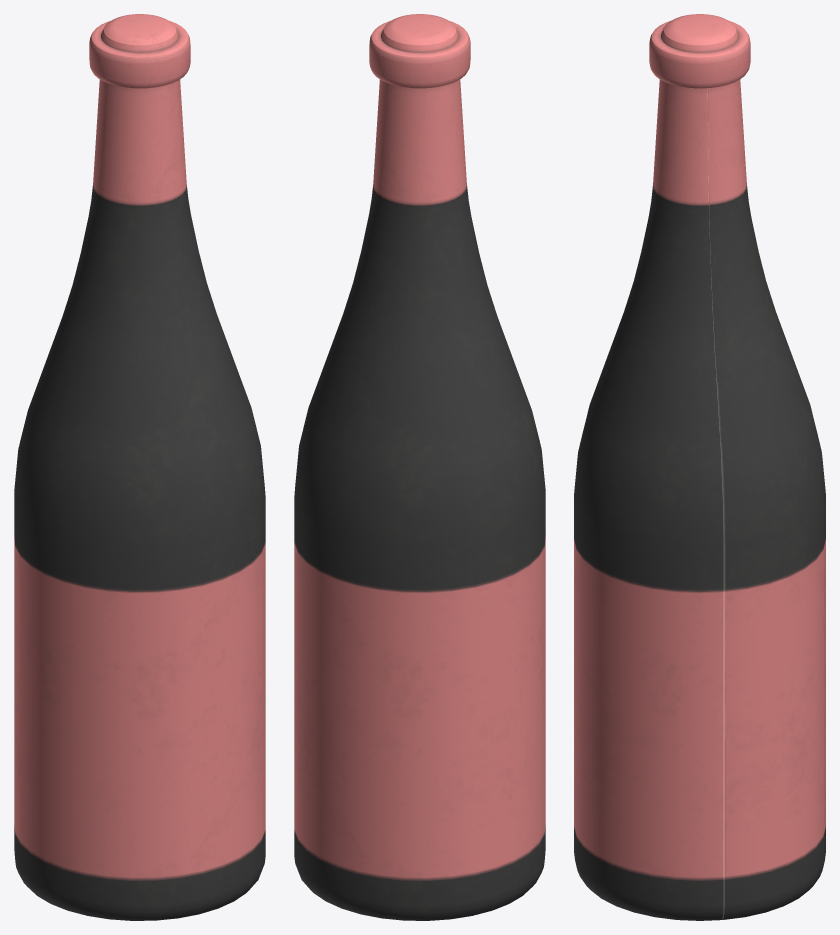
The model's file is SM_WineBottle3.fbx.
The picture shows the model from 3 angles, left to right: view 1: azimuth 30°, elevation 25°; view 2: azimuth 150°, elevation 25°; view 3: azimuth 270°, elevation 25°; orthographic projection.
Visible parts, largest first — view 1: SM_WineBottle3_LOD0; view 2: SM_WineBottle3_LOD0; view 3: SM_WineBottle3_LOD0.
Boxes of the visible parts, left/top/right/bottom form: SM_WineBottle3_LOD0: left=14, top=14, right=265, bottom=920; SM_WineBottle3_LOD0: left=294, top=14, right=545, bottom=920; SM_WineBottle3_LOD0: left=574, top=14, right=825, bottom=920.
Size of the model in its own units: 10.11 by 10.11 by 37.5.
1 material, 1 textured.
